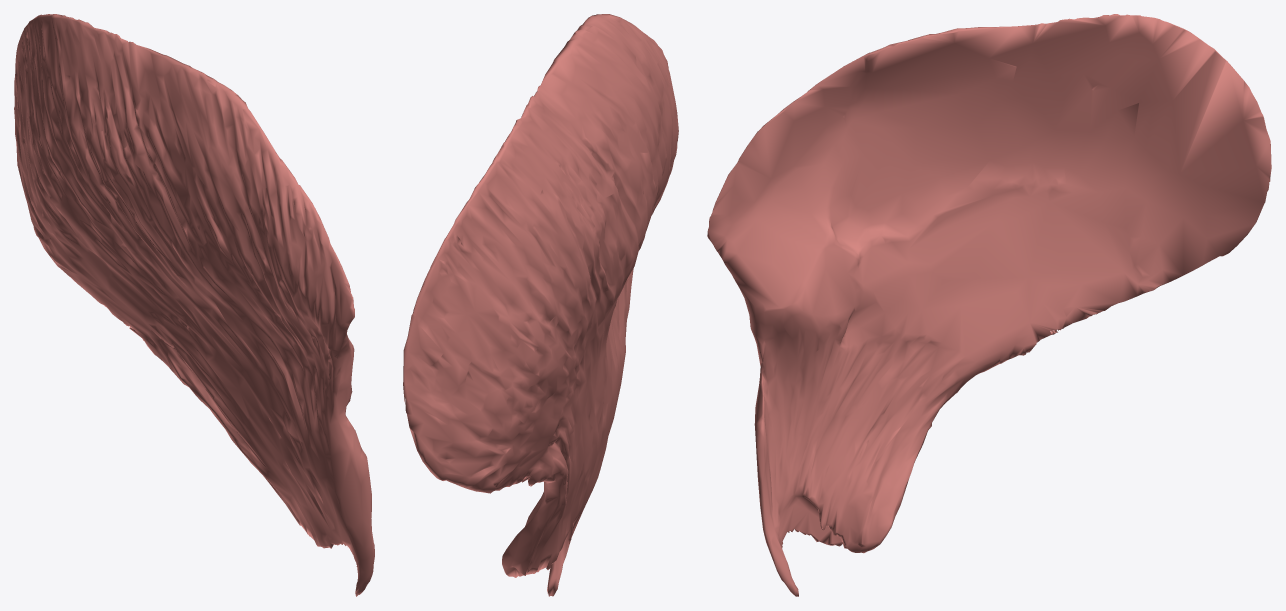
3 views of the same model, side by side, from view 1: azimuth 30°, elevation 25°; view 2: azimuth 150°, elevation 25°; view 3: azimuth 270°, elevation 25° (orthographic). The views are drawn at different scales.
Parts seen in each view (by area): view 1: ZA_12261711ce5b5368; view 2: ZA_12261711ce5b5368; view 3: ZA_12261711ce5b5368.
Part boxes in pixels (left/top/right/bottom): ZA_12261711ce5b5368: left=14, top=14, right=374, bottom=596; ZA_12261711ce5b5368: left=403, top=14, right=678, bottom=596; ZA_12261711ce5b5368: left=707, top=14, right=1271, bottom=596.
Bounding box in the file's own units: 0.0391 × 0.116 × 0.1139.
